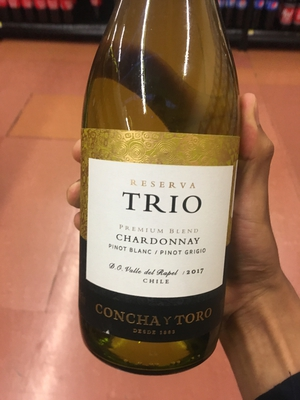trio chardonnay: (75, 6, 251, 376)
